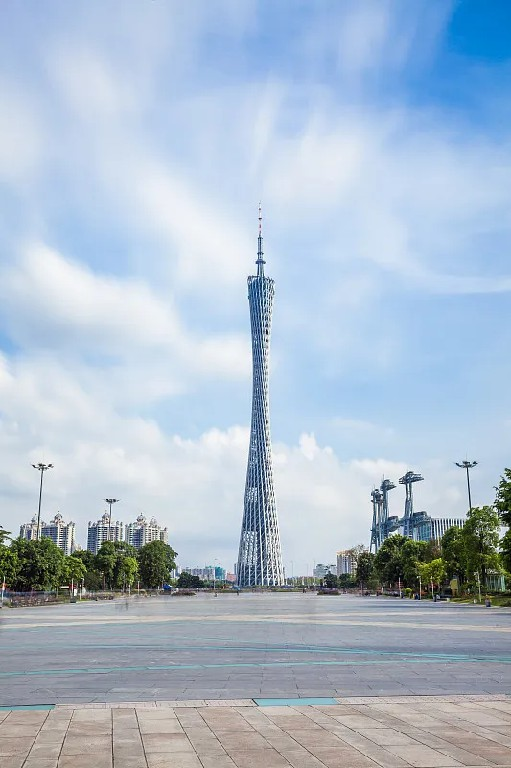Canton: (233, 201, 289, 590)
